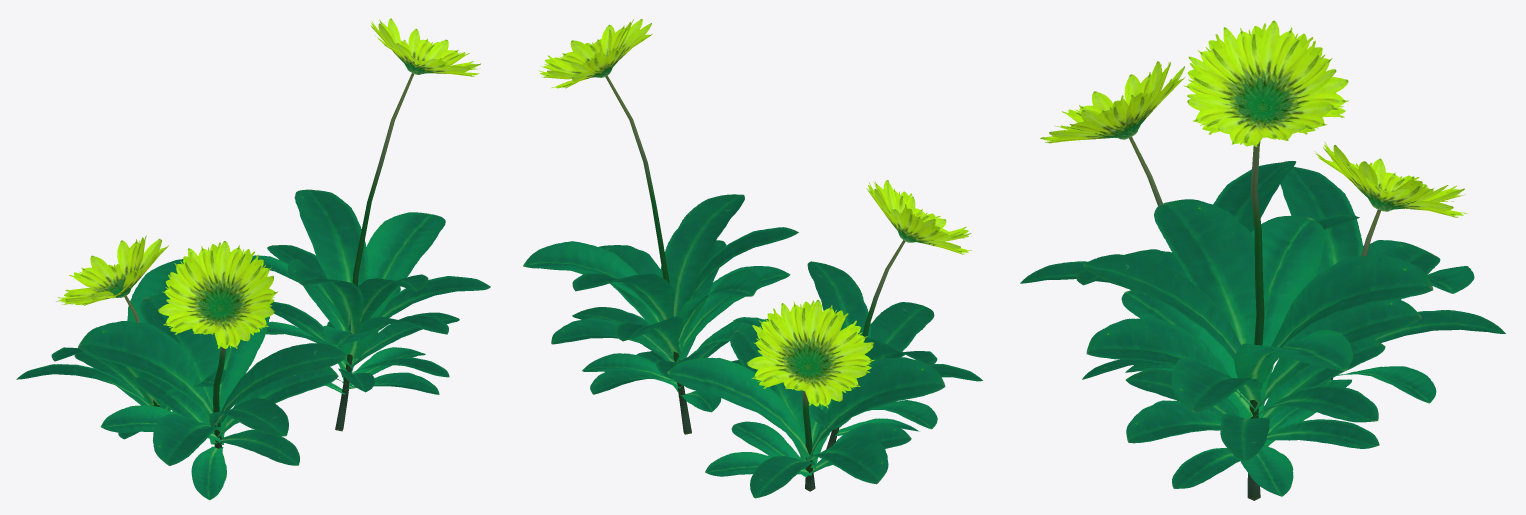
3 renders of one model, left to right at view 1: azimuth 30°, elevation 25°; view 2: azimuth 150°, elevation 25°; view 3: azimuth 270°, elevation 25°, orthographic. The views are drawn at different scales.
Parts seen in each view (by area): view 1: SM_Gazania_01_LOD0; view 2: SM_Gazania_01_LOD0; view 3: SM_Gazania_01_LOD0.
Boxes of the visible parts, box(x1,y1,x2,y2) form: SM_Gazania_01_LOD0: box(16, 18, 490, 500); SM_Gazania_01_LOD0: box(523, 19, 982, 498); SM_Gazania_01_LOD0: box(1020, 20, 1505, 500).
Size of the model in its own units: 0.4226 by 0.39 by 0.3413.
Materials: 1 (1 with a texture image).
